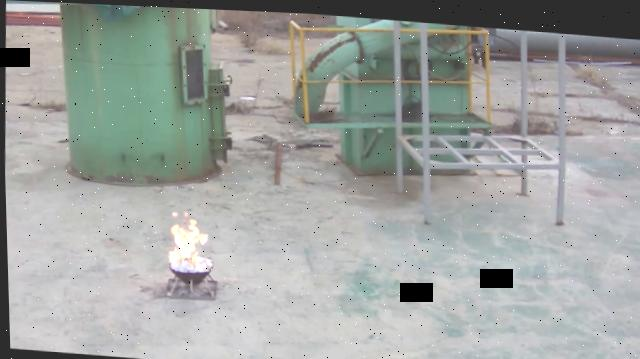fire: (165, 215, 208, 268)
